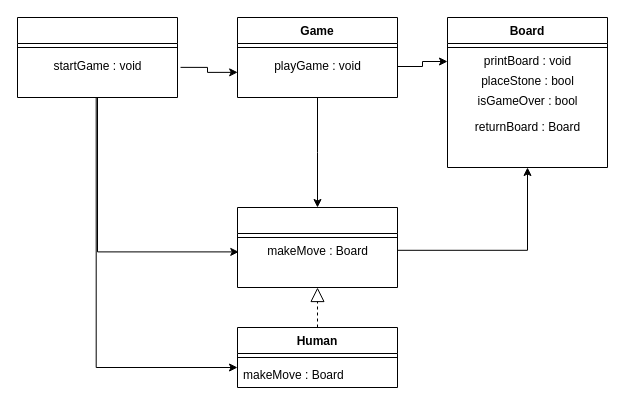
This 625x408 diagram has some shape labels left out. The box of each missing label's shape, as (x1, y1, x2, y2) in pixels:
GameManager: (16, 16, 178, 98)
Player: (236, 206, 398, 288)
